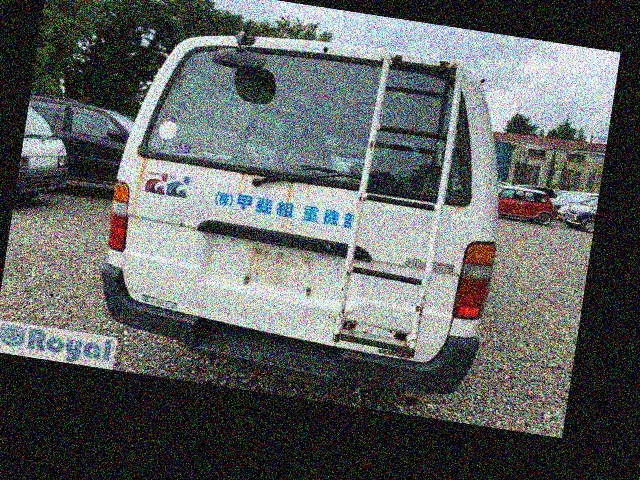van: (90, 12, 527, 402)
